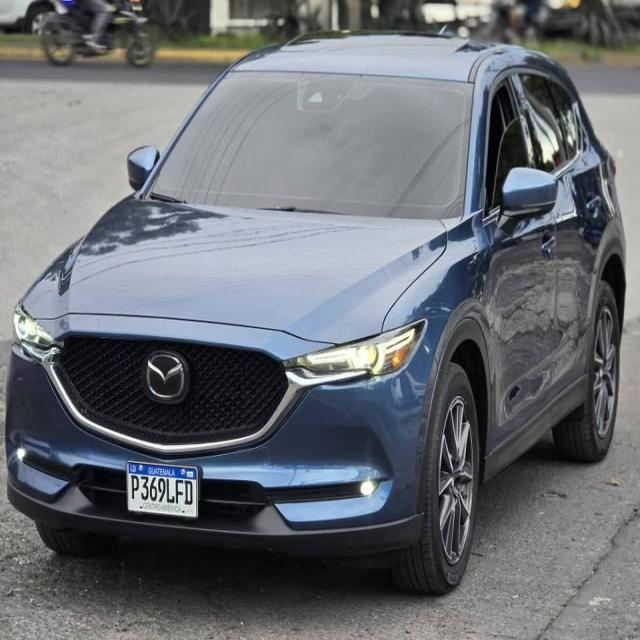Placas: (125, 460, 198, 521)
